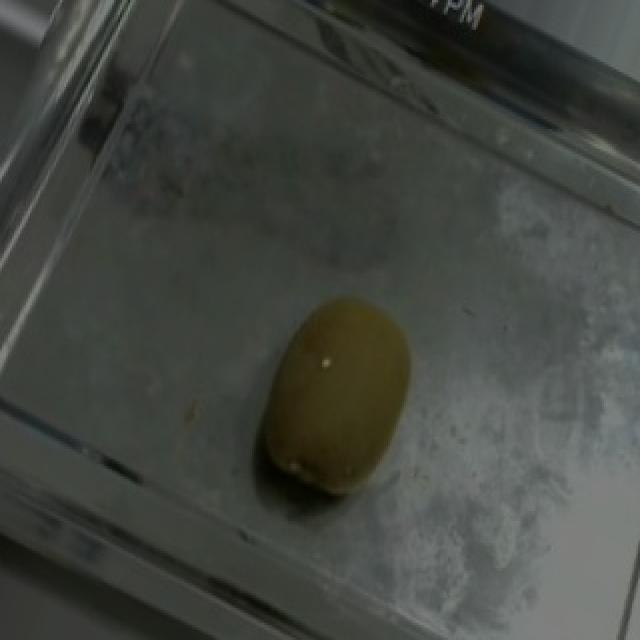Fruit: (216, 263, 454, 536)
